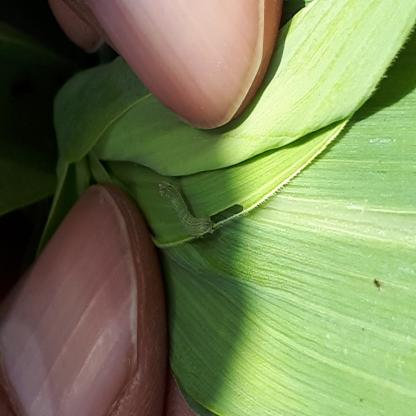armyworm: (101, 273, 135, 387)
